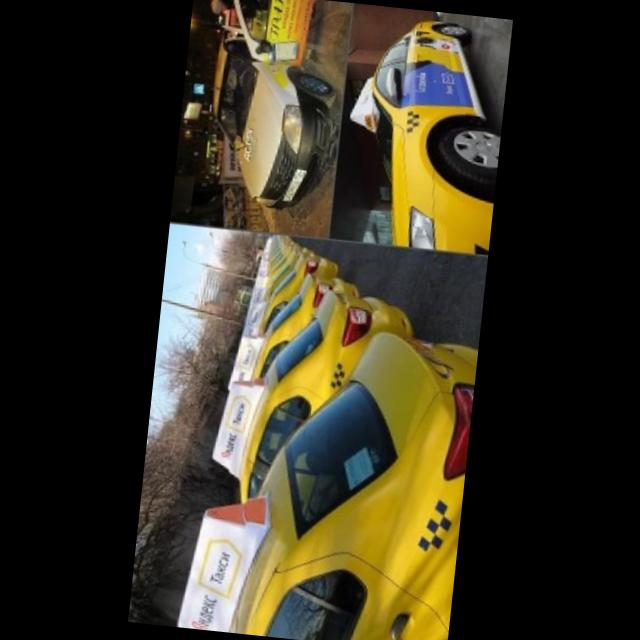taxi: (176, 313, 480, 640), (199, 277, 426, 556), (336, 12, 512, 257), (222, 267, 370, 469), (234, 249, 347, 398)
